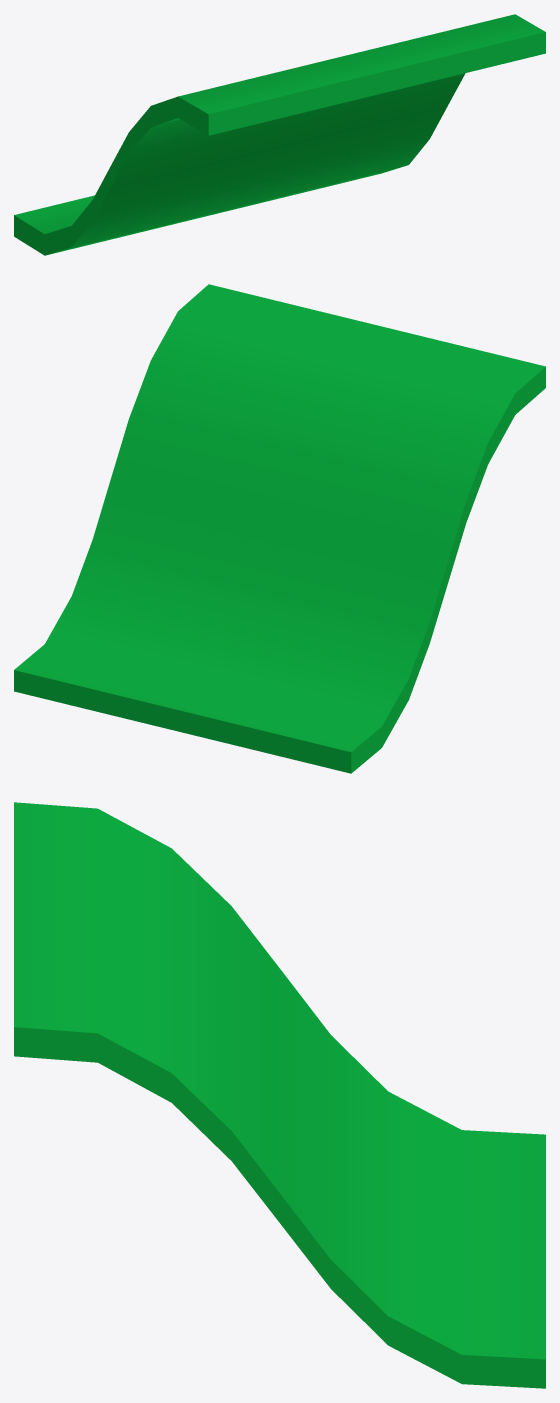
File: basic_slope2.gltf
The picture shows the model from 3 angles, top to bottom: view 1: azimuth 30°, elevation 25°; view 2: azimuth 150°, elevation 25°; view 3: azimuth 270°, elevation 25°; orthographic projection. The views are drawn at different scales.
Parts seen in each view (by area): view 1: basic_slope2_glb; view 2: basic_slope2_glb; view 3: basic_slope2_glb.
Part boxes in pixels (x1,y1,x2,y2): basic_slope2_glb: (14,14,545,255); basic_slope2_glb: (14,284,545,773); basic_slope2_glb: (14,802,545,1388).
Size of what is drawn, in the model's own units: 4 by 3 by 4.
1 material, 1 textured.
